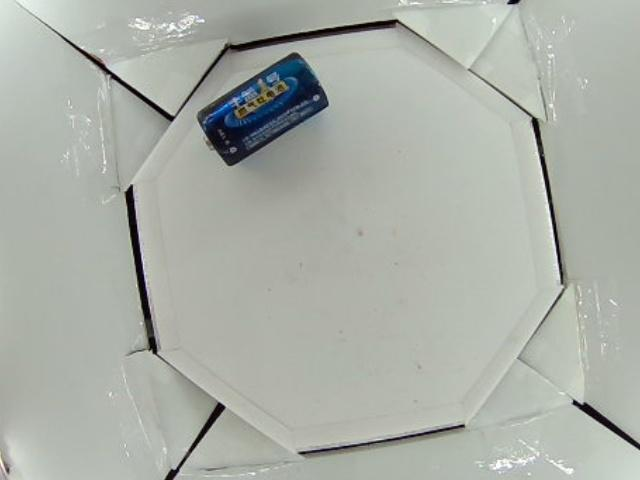Battery: (193, 49, 329, 168)
